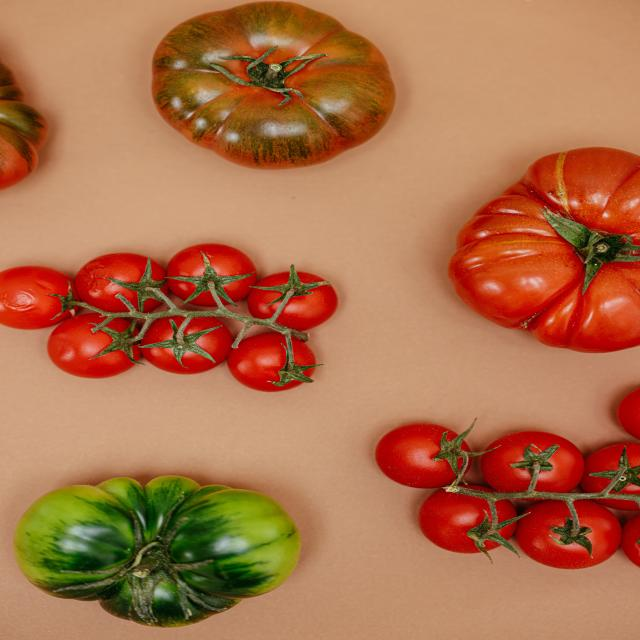Tomato: (426, 488, 530, 565), (375, 409, 475, 488), (491, 420, 586, 496), (45, 313, 140, 377), (231, 331, 320, 394), (168, 246, 250, 313), (138, 314, 225, 371), (270, 267, 337, 328)
